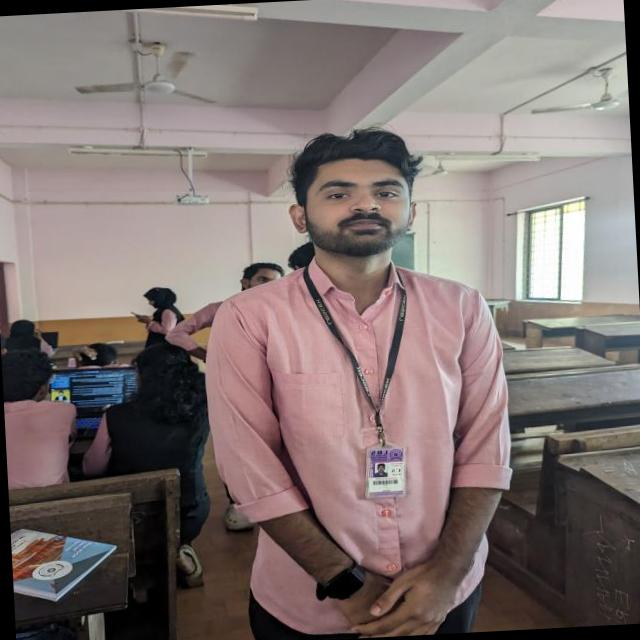id_card: (309, 267, 423, 500)
